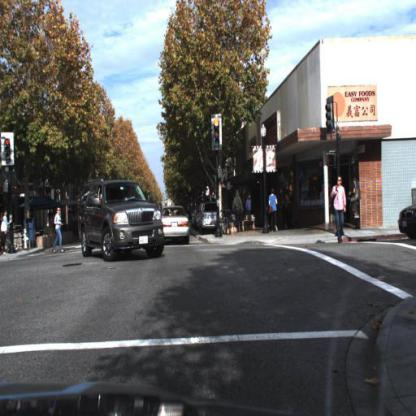car: (72, 175, 167, 260), (396, 191, 416, 244)
pedestrian: (328, 172, 349, 244), (48, 202, 68, 258), (346, 172, 364, 230), (1, 209, 20, 260), (232, 187, 248, 238), (268, 188, 284, 232), (244, 183, 257, 220), (245, 193, 255, 227)
trafficLight: (1, 129, 16, 170), (211, 111, 225, 149)
